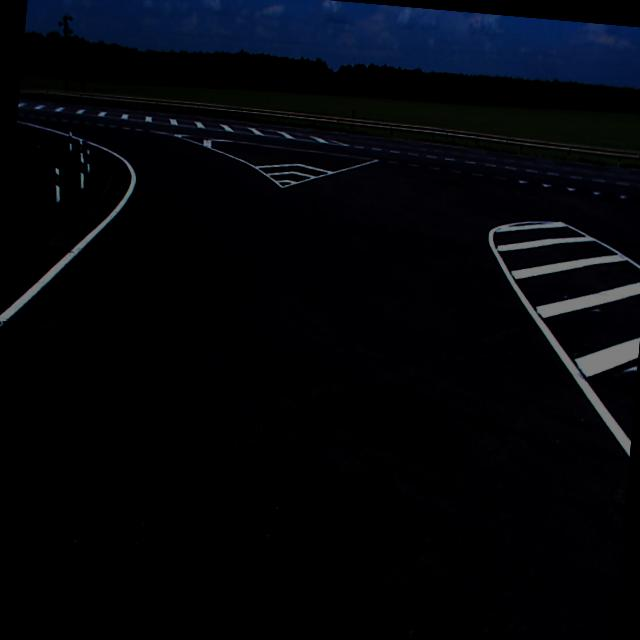road: (0, 98, 640, 640)
